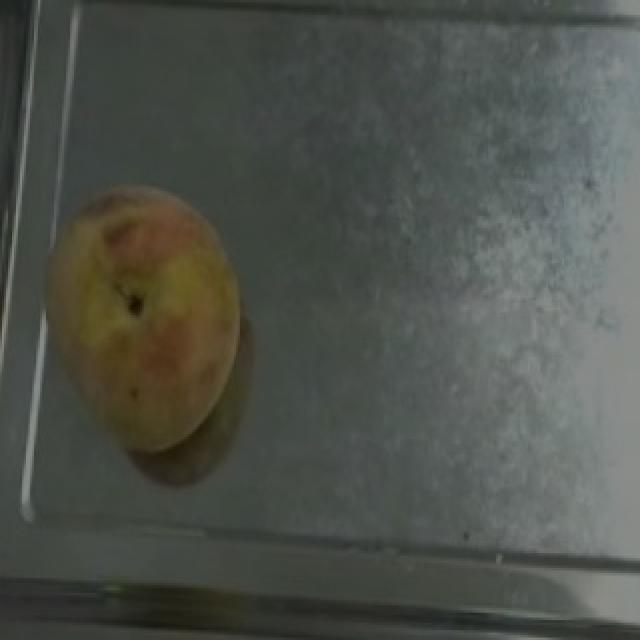Fruit: (18, 174, 256, 466)
